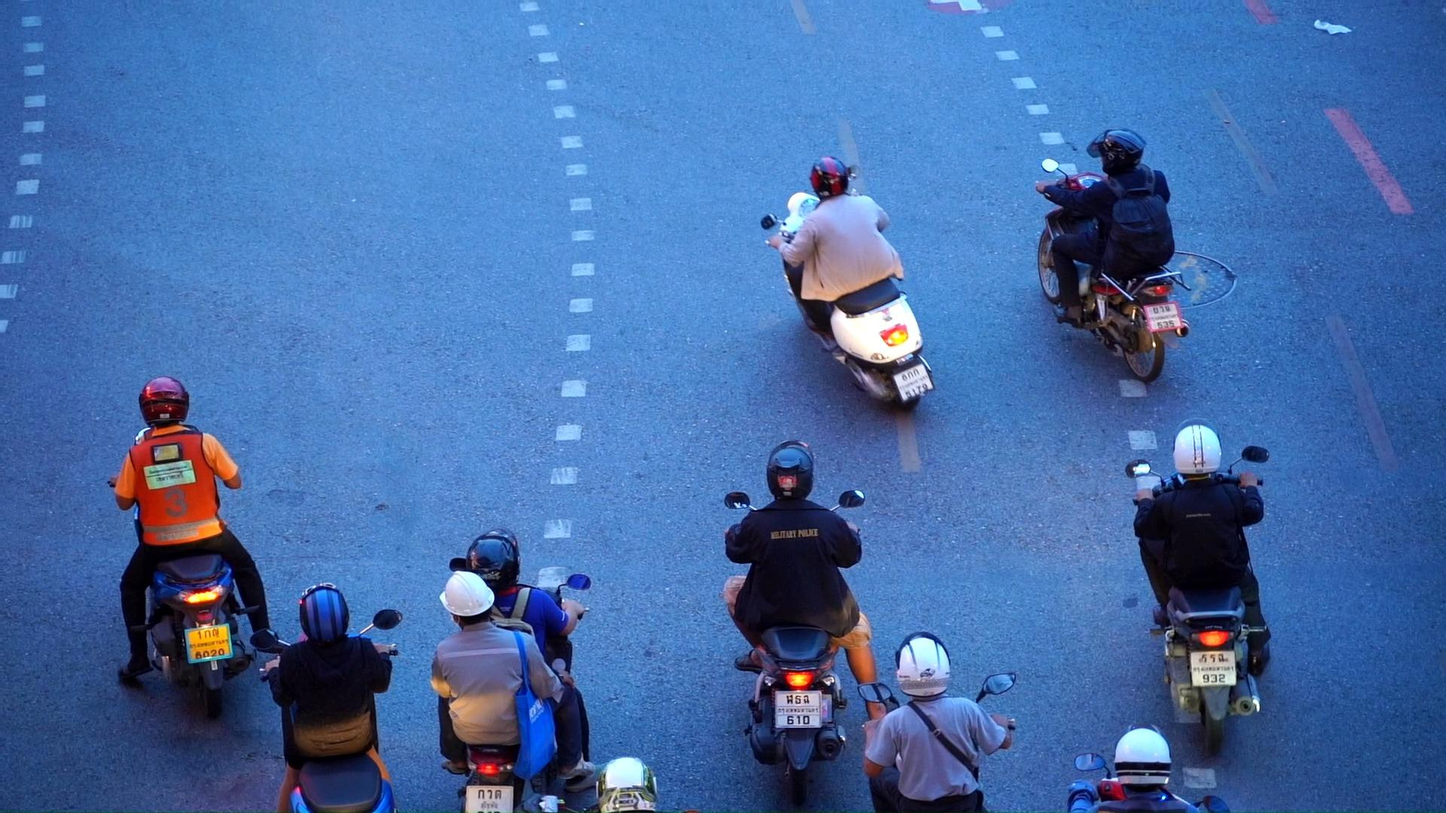driver: (104, 377, 288, 722), (722, 439, 888, 808), (430, 527, 609, 813), (1123, 417, 1273, 756), (761, 156, 936, 412), (1034, 128, 1193, 382), (250, 582, 405, 813), (857, 631, 1016, 813), (1067, 721, 1230, 813)
helmet: (1115, 721, 1173, 793), (895, 631, 951, 698), (595, 757, 659, 813), (466, 527, 520, 592), (438, 570, 495, 630), (299, 582, 349, 647), (1172, 417, 1223, 480), (1086, 128, 1146, 180), (767, 439, 814, 500), (139, 376, 190, 428), (809, 155, 849, 201)
